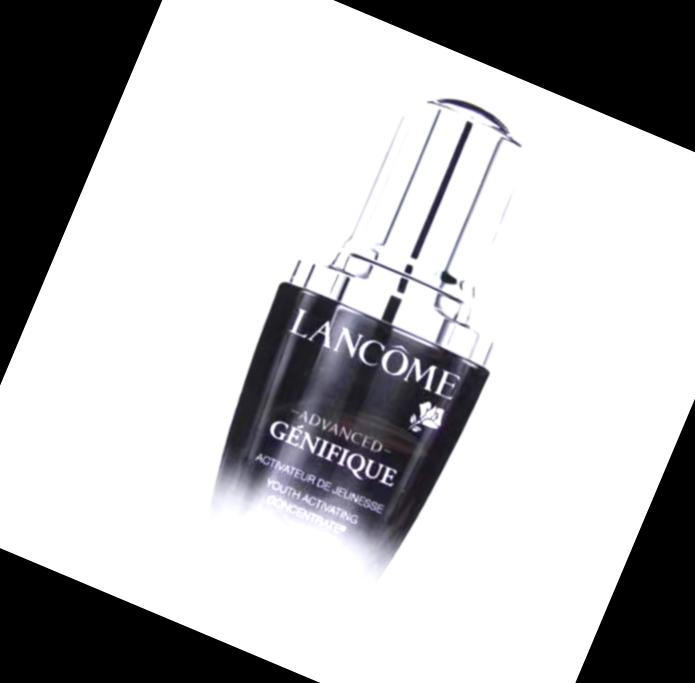cosmetic: (158, 60, 587, 663)
